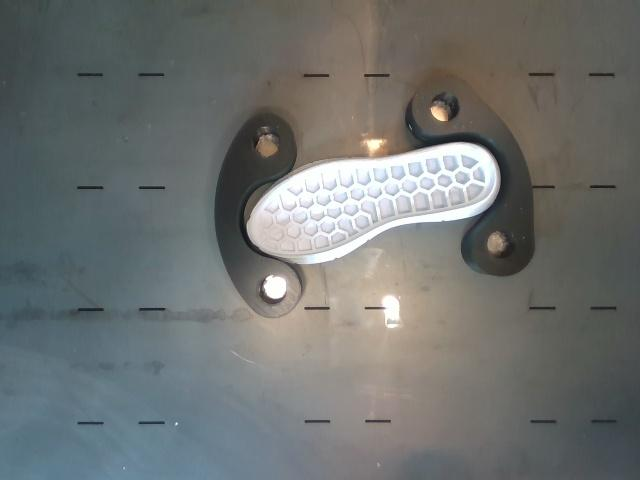shoes: (248, 144, 495, 256)
